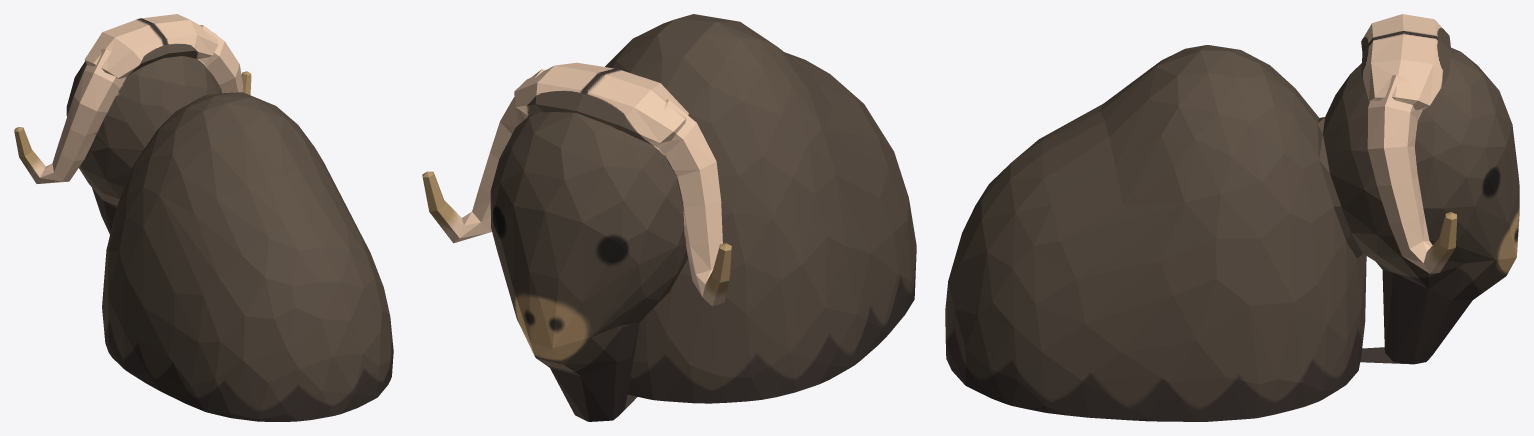
Rendered from animal_muskox_blob.obj.
3 renders of one model, left to right at view 1: azimuth 30°, elevation 25°; view 2: azimuth 150°, elevation 25°; view 3: azimuth 270°, elevation 25°, orthographic. The views are drawn at different scales.
Parts seen in each view (by area): view 1: animal_muskox_blob; view 2: animal_muskox_blob; view 3: animal_muskox_blob.
Boxes of the visible parts, x1=… form: animal_muskox_blob: x1=14, y1=14, x2=393, y2=421; animal_muskox_blob: x1=422, y1=14, x2=916, y2=421; animal_muskox_blob: x1=945, y1=14, x2=1519, y2=421.
Size of the model in its own units: 1.12 by 1.17 by 1.89.
